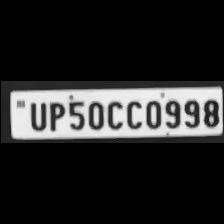0: (141, 96, 161, 130), (84, 98, 104, 130)
5: (64, 98, 84, 130)
8: (200, 96, 220, 128)
9: (180, 96, 200, 130), (162, 96, 180, 130)
C: (104, 97, 124, 130), (123, 96, 141, 130)
P: (44, 100, 64, 132)
U: (24, 99, 46, 131)
